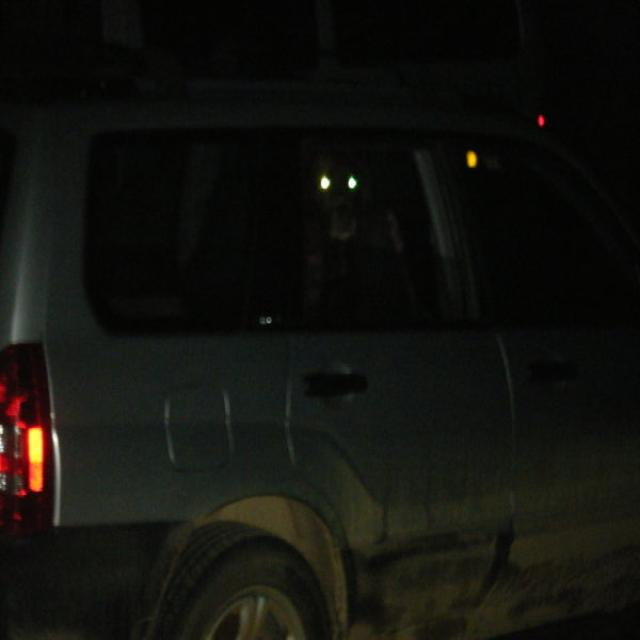Dog: (278, 97, 479, 520)
